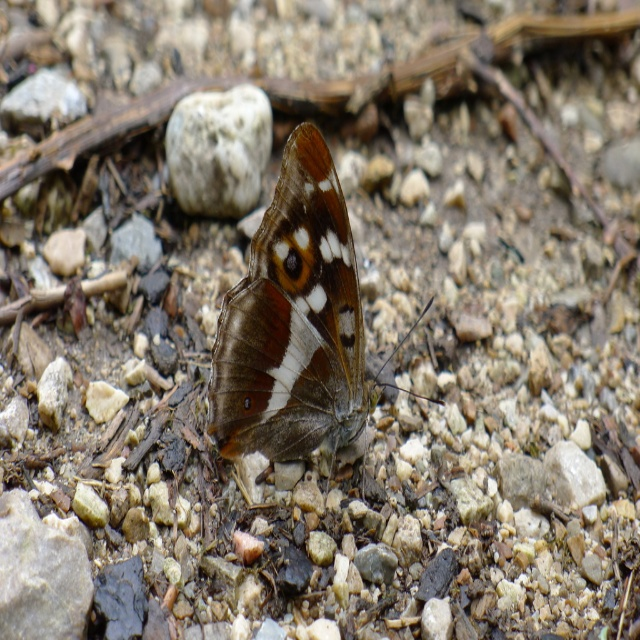Butterfly: (209, 113, 448, 518)
